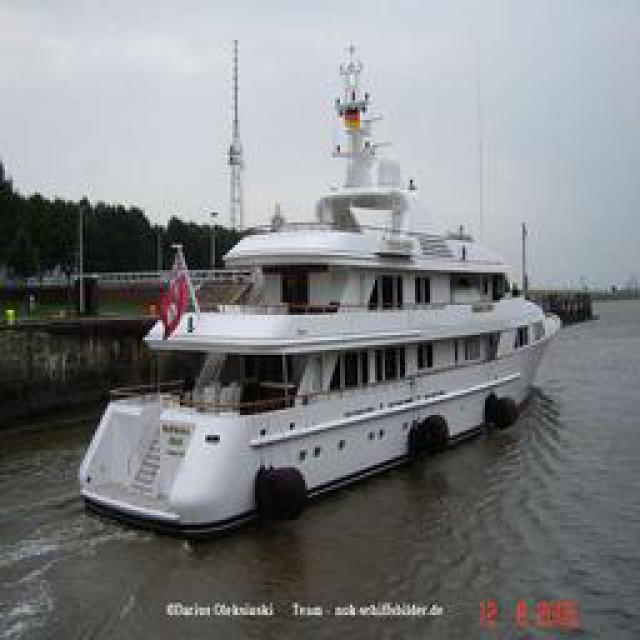Ship: (80, 86, 563, 536)
